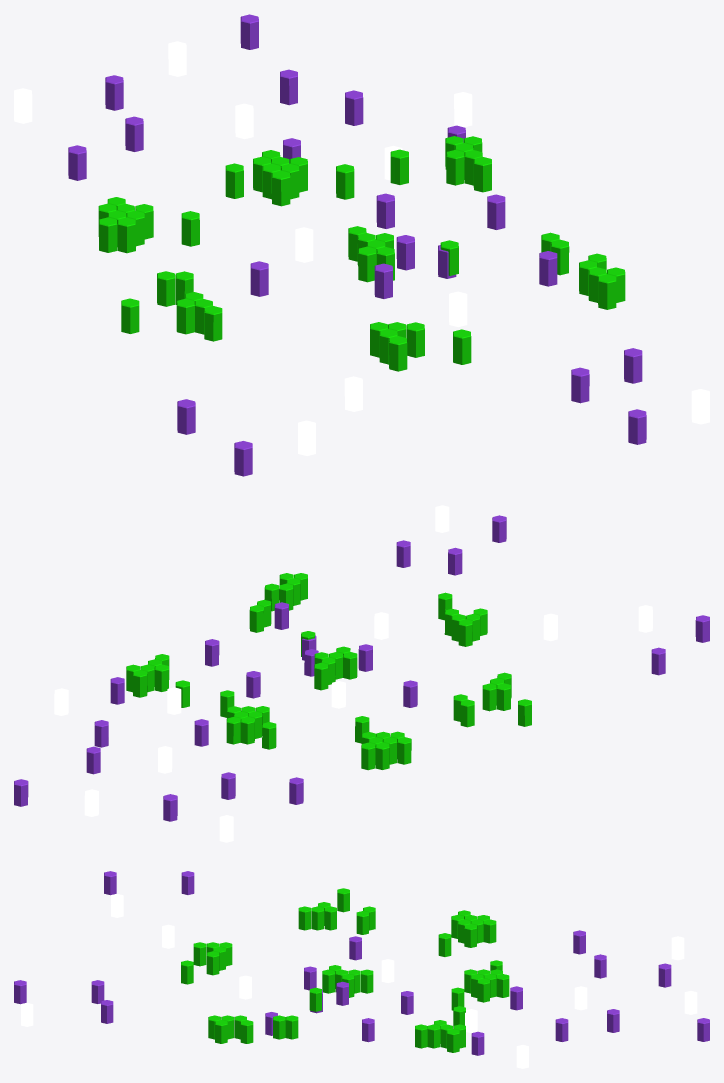
Rendered from normal map grid7 updated.glb.
The picture shows the model from 3 angles, top to bottom: view 1: azimuth 30°, elevation 25°; view 2: azimuth 150°, elevation 25°; view 3: azimuth 270°, elevation 25°; orthographic projection. The views are drawn at different scales.
Size of what is drawn, in the model's own units: 3.58 by 0.2168 by 5.86.
